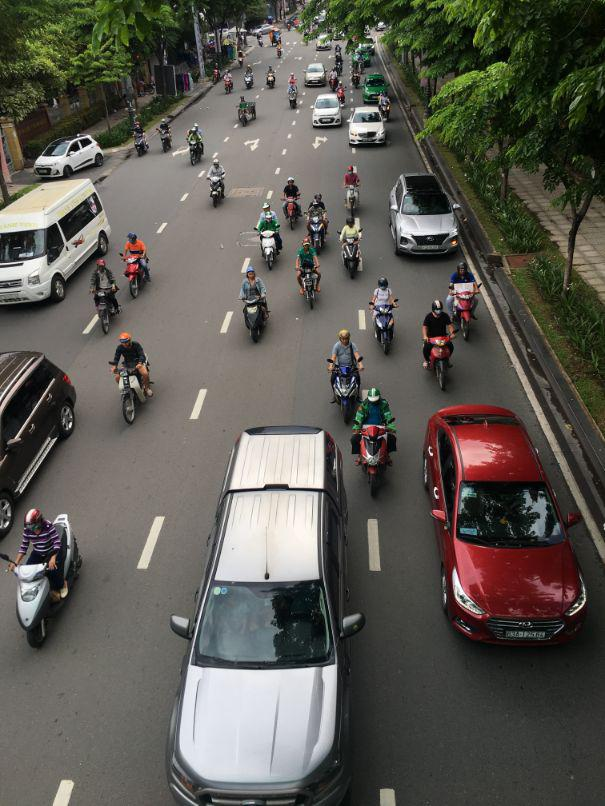car: (169, 421, 357, 800), (423, 404, 588, 648), (1, 347, 80, 550), (0, 176, 114, 310), (388, 172, 463, 260), (36, 136, 104, 181), (348, 106, 388, 145), (312, 95, 344, 130), (363, 74, 387, 101), (306, 64, 327, 87)
motorbike: (8, 511, 84, 648), (353, 423, 397, 498), (112, 356, 153, 426), (330, 357, 363, 423), (448, 276, 479, 342), (422, 332, 456, 392), (88, 287, 121, 338), (370, 295, 398, 353), (123, 241, 150, 300), (241, 297, 268, 344), (258, 224, 283, 272), (296, 263, 321, 310), (342, 236, 363, 279), (187, 130, 203, 166), (134, 126, 150, 157)
